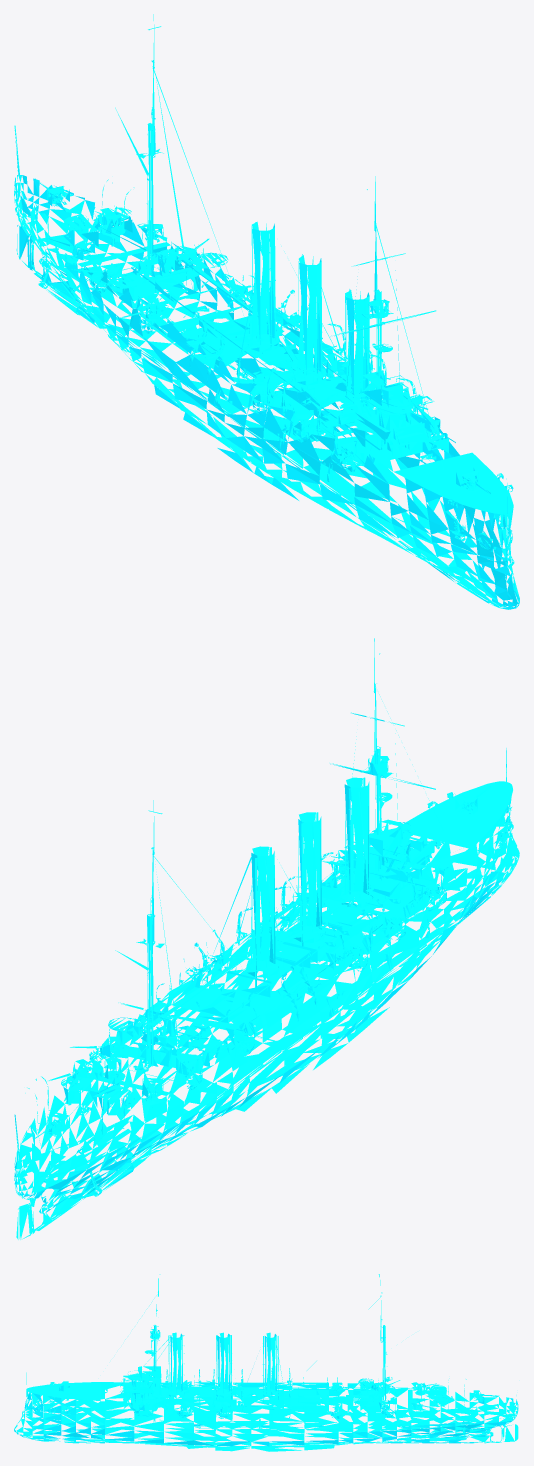
Rendered from PRSC001.glb.
3 views of the same model, one above another, from view 1: azimuth 30°, elevation 25°; view 2: azimuth 150°, elevation 25°; view 3: azimuth 270°, elevation 25° (orthographic). The views are drawn at different scales.
Parts seen in each view (by area): view 1: hull, turret; view 2: hull, turret; view 3: hull, turret.
Part boxes in pixels (x1=…): hull: x1=14, y1=14, x2=519, y2=609; turret: x1=35, y1=178, x2=491, y2=494; hull: x1=14, y1=638, x2=519, y2=1239; turret: x1=34, y1=786, x2=490, y2=1138; hull: x1=14, y1=1274, x2=518, y2=1451; turret: x1=42, y1=1377, x2=499, y2=1415.
Bounding box in the file's own units: 1.53 × 3.21 × 8.46.
